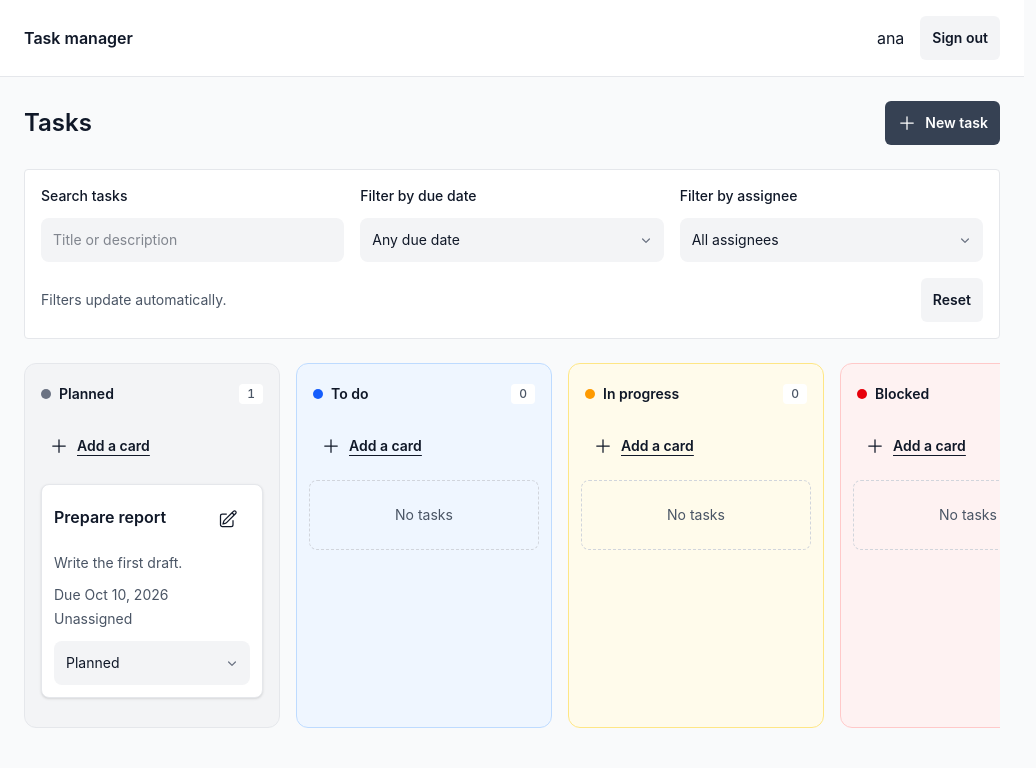
Test: signs out and returns to login
Step 1. Click the button "Sign out" → (960, 38), box [920,16,1000,60]
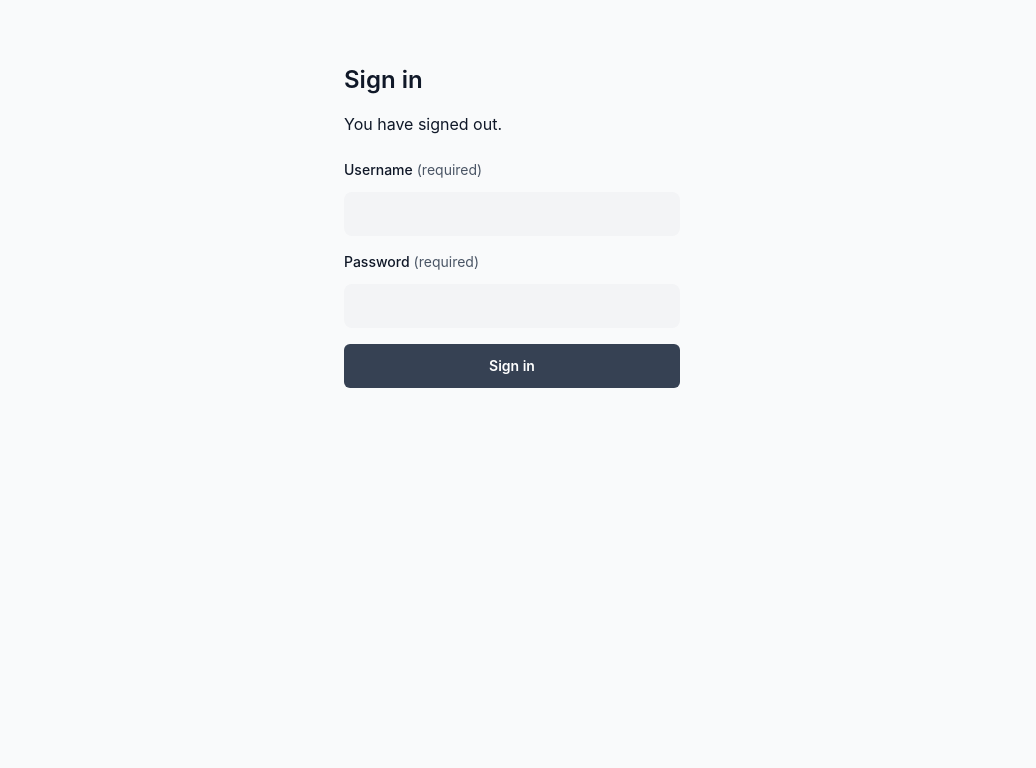
Expected: the heading "Sign in" is shown, [344,65,423,94]
